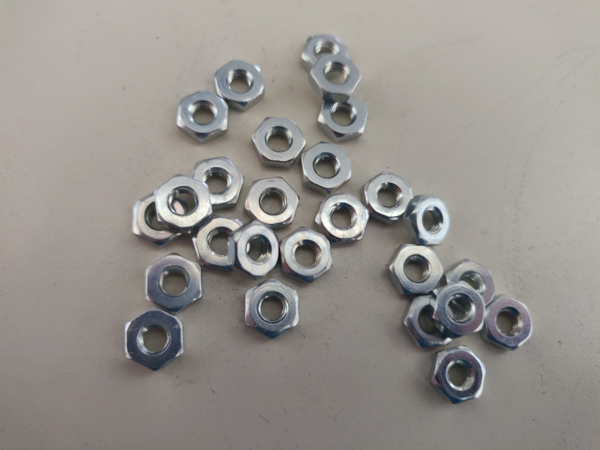nut: (125, 310, 185, 373), (244, 279, 302, 339), (431, 345, 486, 407), (482, 292, 535, 354), (389, 244, 446, 300), (146, 253, 200, 310), (282, 225, 335, 279), (317, 191, 372, 243), (252, 116, 305, 169), (439, 283, 490, 338), (155, 176, 212, 225), (246, 177, 300, 228), (230, 223, 280, 278), (177, 93, 232, 143), (302, 143, 355, 194), (192, 158, 244, 209), (194, 214, 244, 265), (446, 255, 497, 305), (215, 61, 267, 110), (366, 173, 416, 223), (135, 193, 184, 244), (316, 96, 370, 139), (405, 298, 452, 346), (312, 54, 364, 97), (406, 195, 452, 243), (300, 35, 350, 66)
